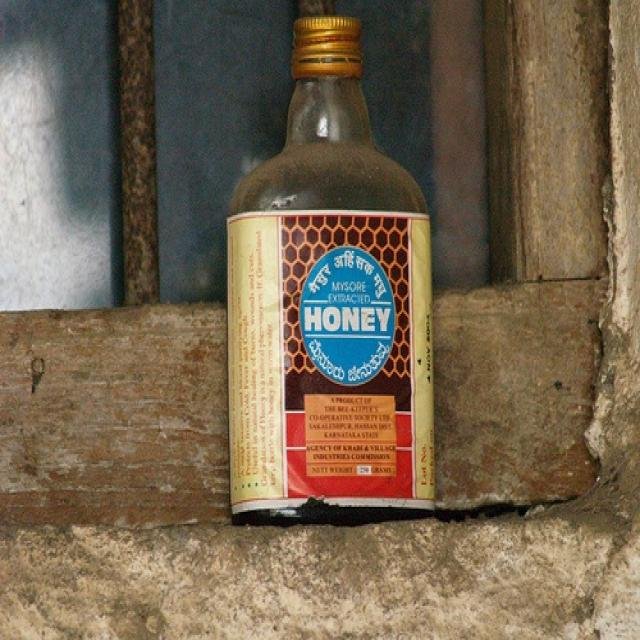bottle: (228, 15, 432, 517)
